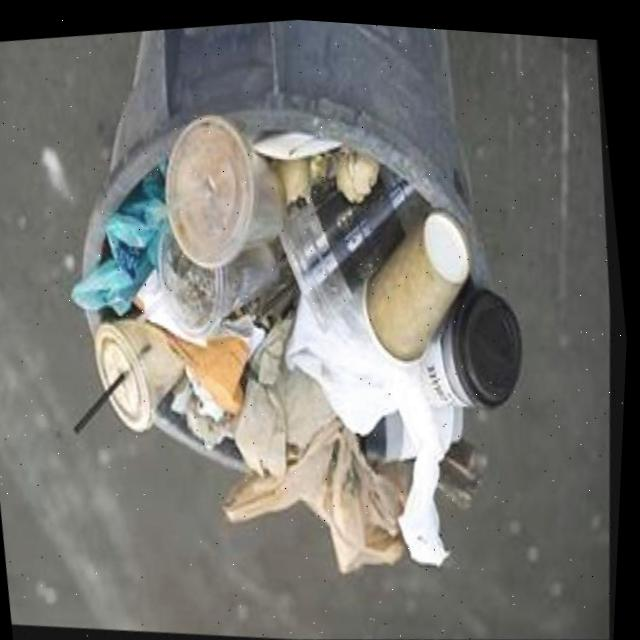Garbage: (81, 118, 528, 571)
Plastic_Bag: (294, 272, 463, 558), (80, 173, 173, 321), (80, 173, 173, 321), (141, 272, 213, 346)
Plastic_Glass: (287, 165, 434, 325), (171, 118, 291, 270), (166, 236, 286, 338), (431, 282, 529, 403), (103, 322, 193, 436)
